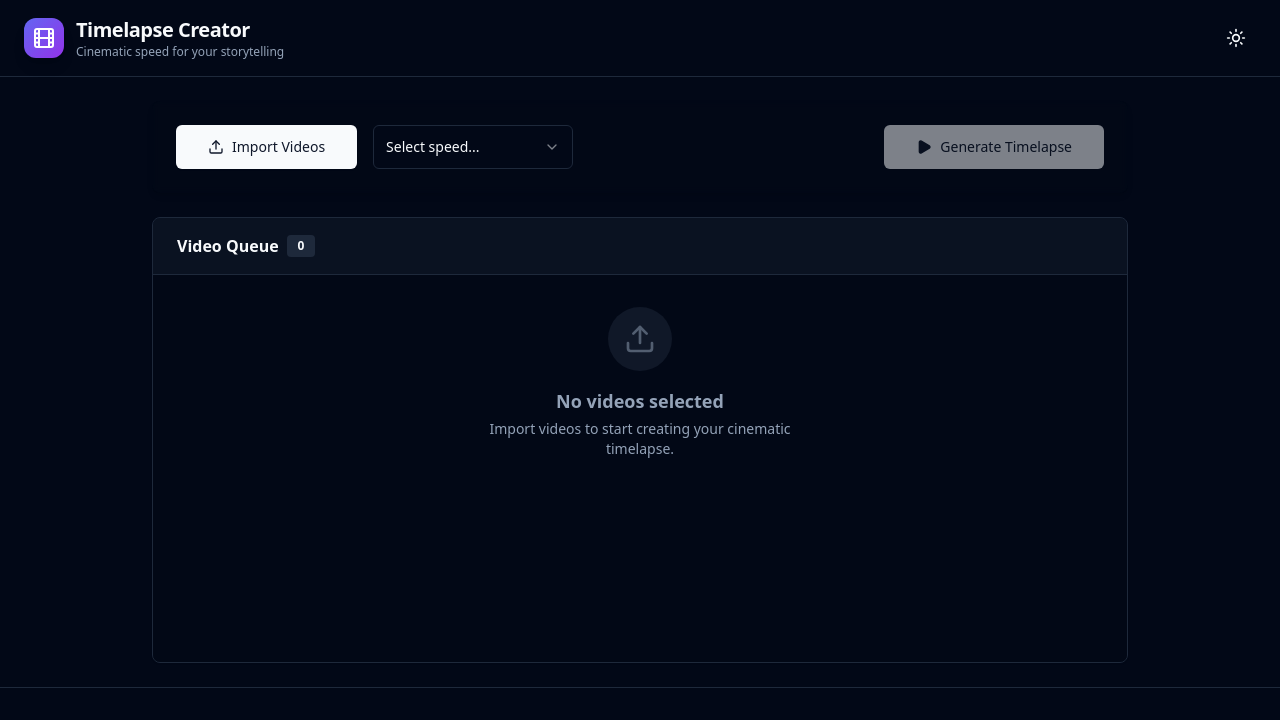
Test: App Component › enables Generate button when files and speed are selected
This screenshot has width=1280, height=720.
Note: Select File
Click the button "Import Videos" at (267, 147), box [176,125,357,169]
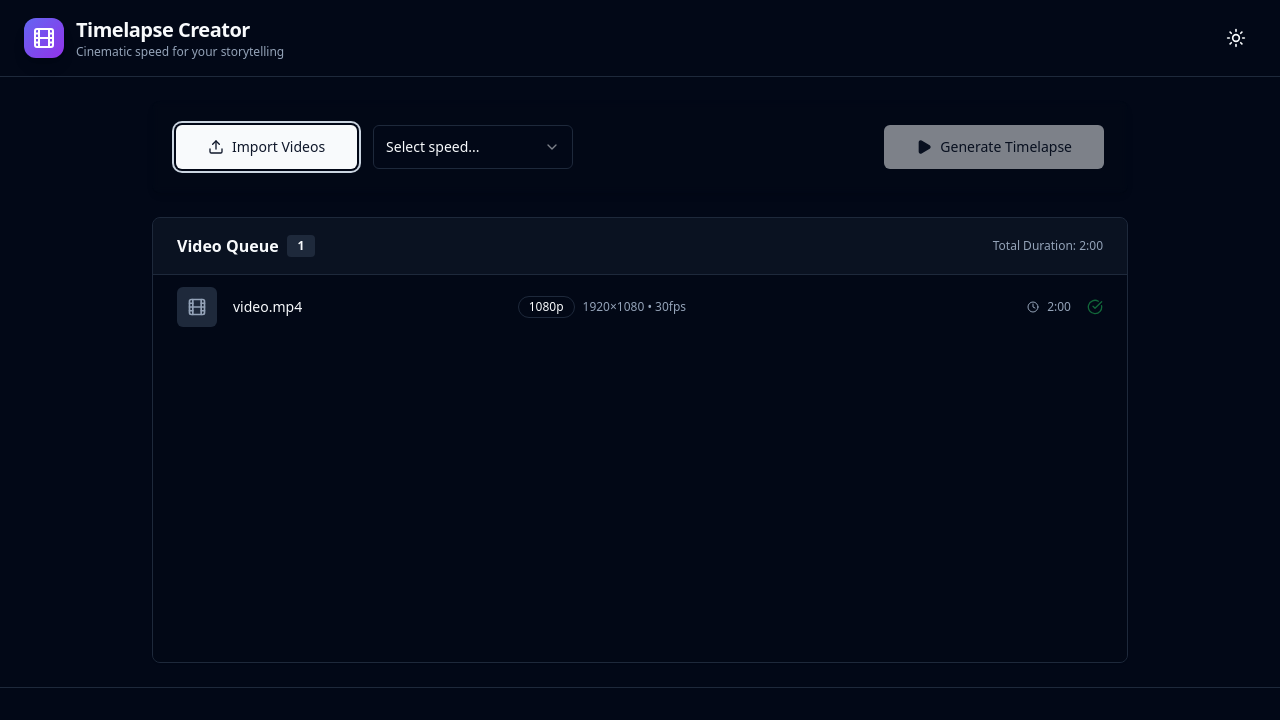
Result: the text "video.mp4" is shown at [233,297,302,316]
Click the dropdown at (473, 147), box [373,125,573,169]
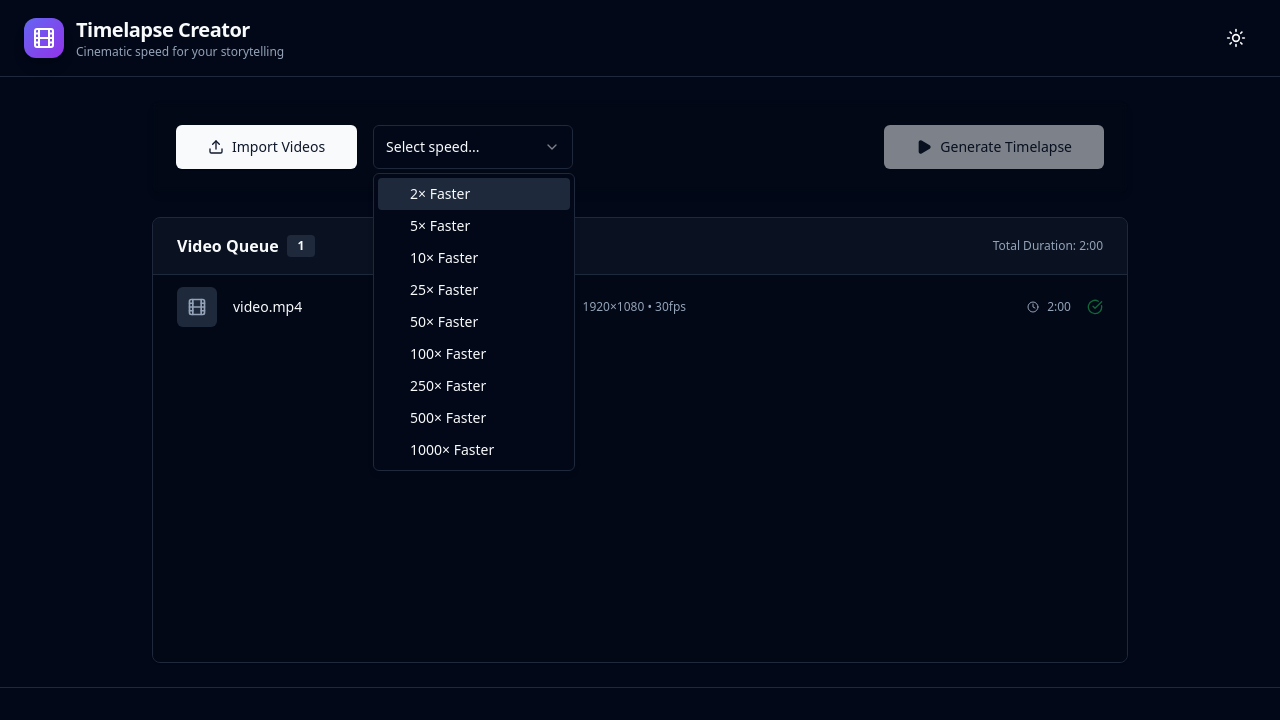
Click the option "10× Faster" at (444, 258), box [410,248,478,267]
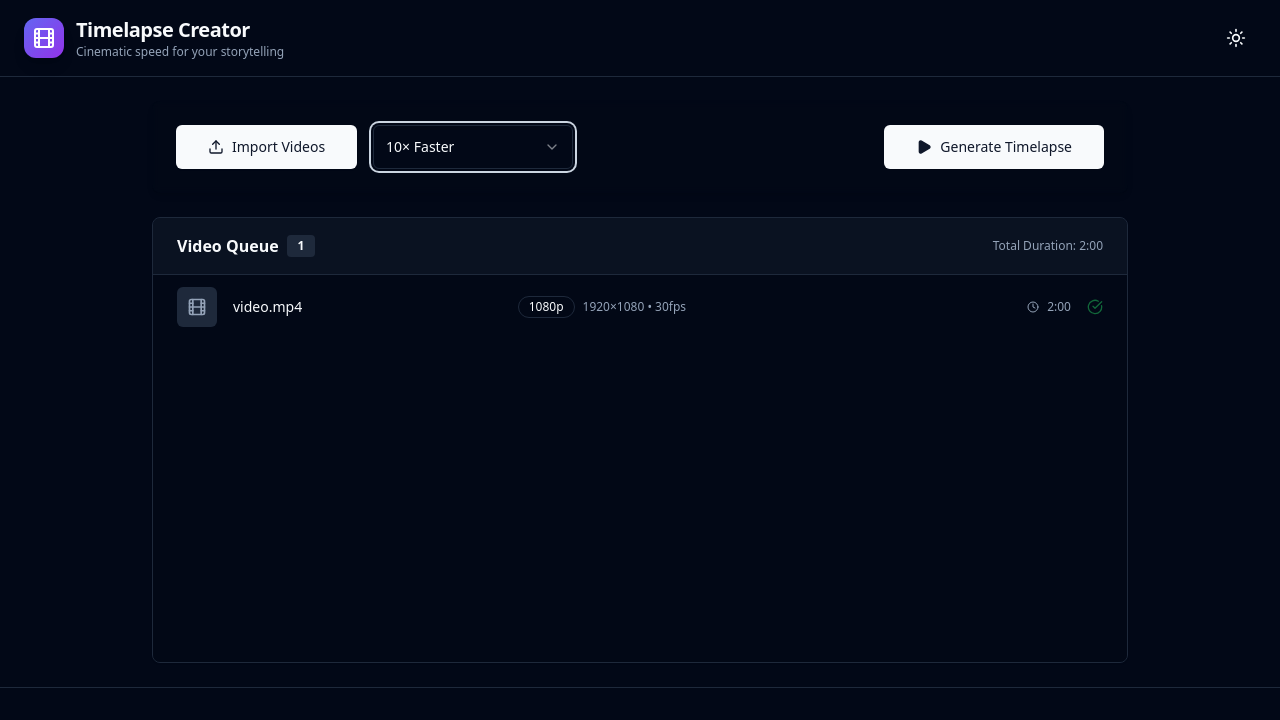
Result: the button "Generate Timelapse" is enabled at [884,125,1104,169]
